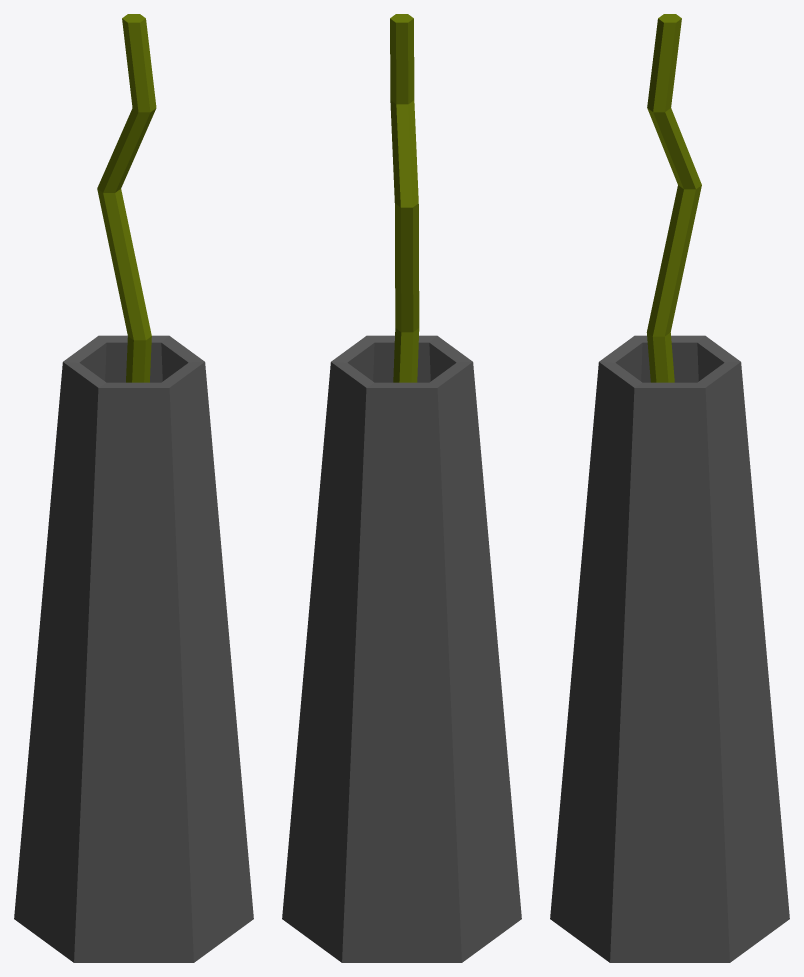
File: vase.fbx
3 renders of one model, left to right at view 1: azimuth 30°, elevation 25°; view 2: azimuth 150°, elevation 25°; view 3: azimuth 270°, elevation 25°, orthographic.
Parts seen in each view (by area): view 1: Vase006, Flower; view 2: Vase006, Flower; view 3: Vase006, Flower.
Boxes of the visible parts, x1,y1,x2,y2 form: Vase006: (14,335,253,962); Flower: (97,14,156,382); Vase006: (282,335,521,962); Flower: (390,14,419,382); Vase006: (550,335,789,962); Flower: (646,14,701,382).
Size of the model in its own units: 12.12 by 58 by 14.
